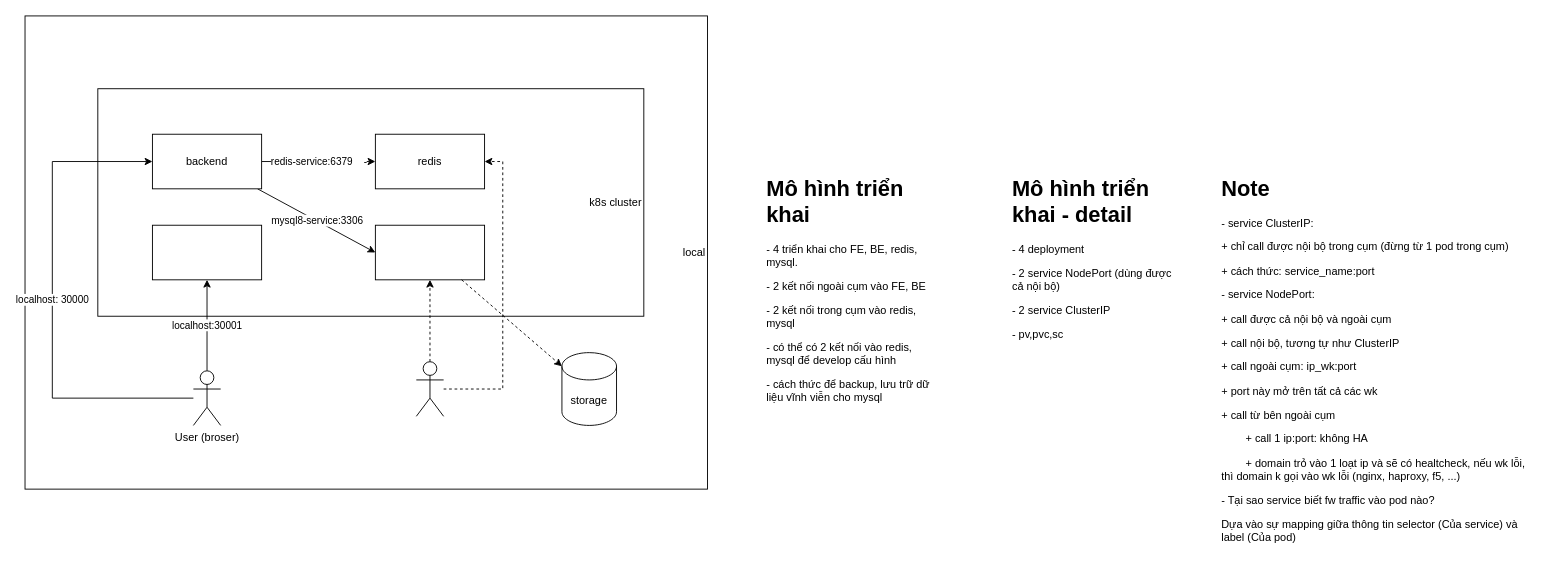
This 1551x578 diagram has some shape labels left out. Each missing label, with the centre of its shape:
Develop: the point at 429,388
frontend: the point at 207,252
mysql: the point at 429,252
